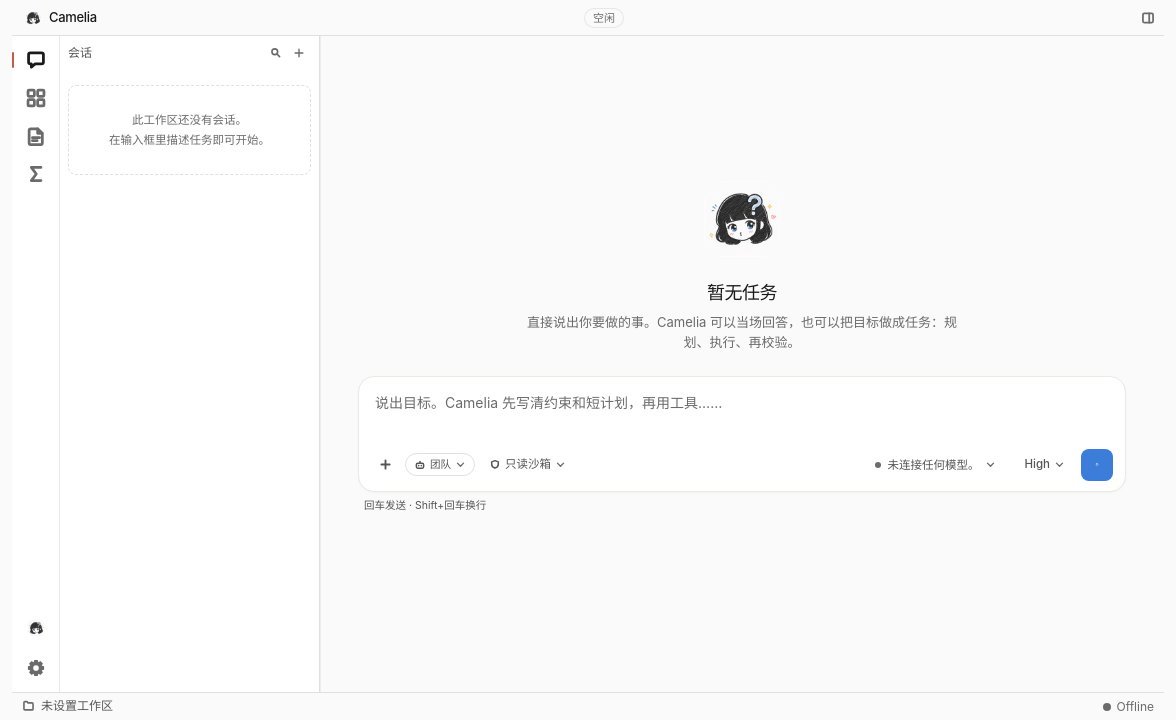
Test: math workspace › never auto-plays the demo — it is an explicit, labelled action
Click the button named "Math": (36, 174) [18,156,54,192]
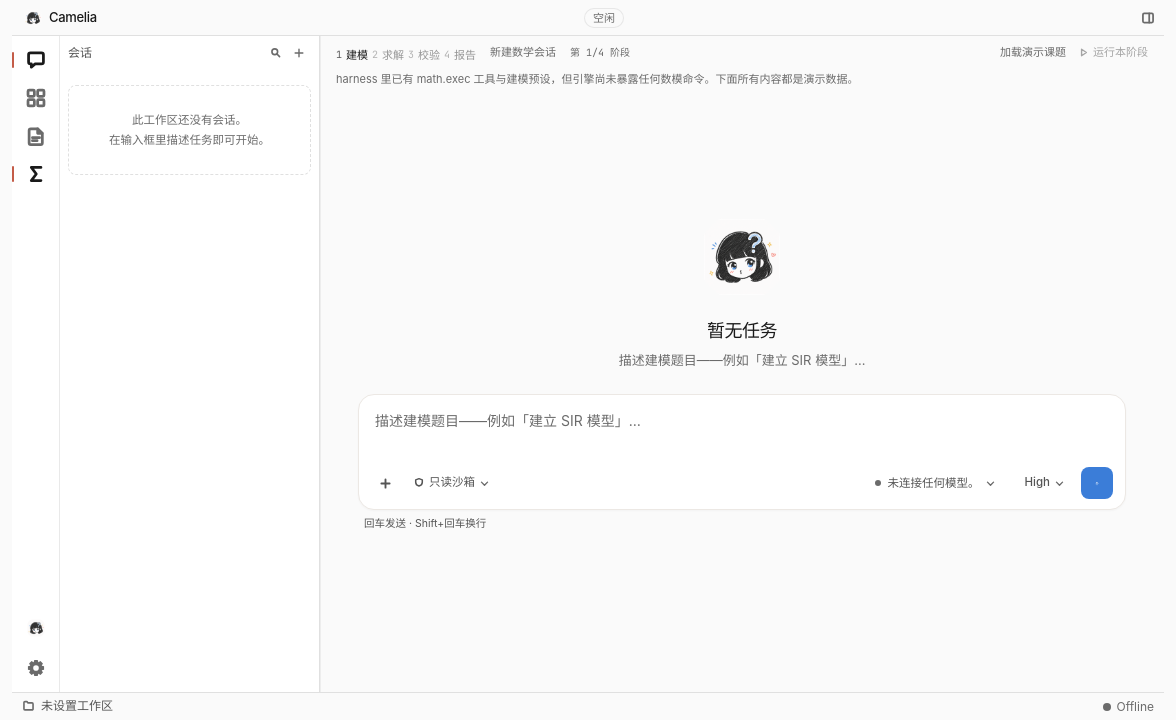
Now the button "加载演示课题" is shown, box [994,42,1072,63]
Now the text "harness 里已有 math.exec 工具与建模预设，但引擎尚未暴露任何数模命令。下面所有内容都是演示数据。" is shown, box [336,72,858,86]
